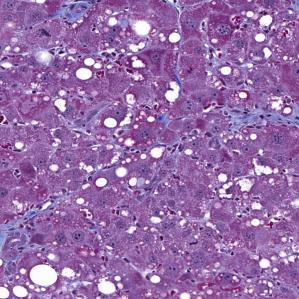fibrosis: (223, 106, 296, 133)
